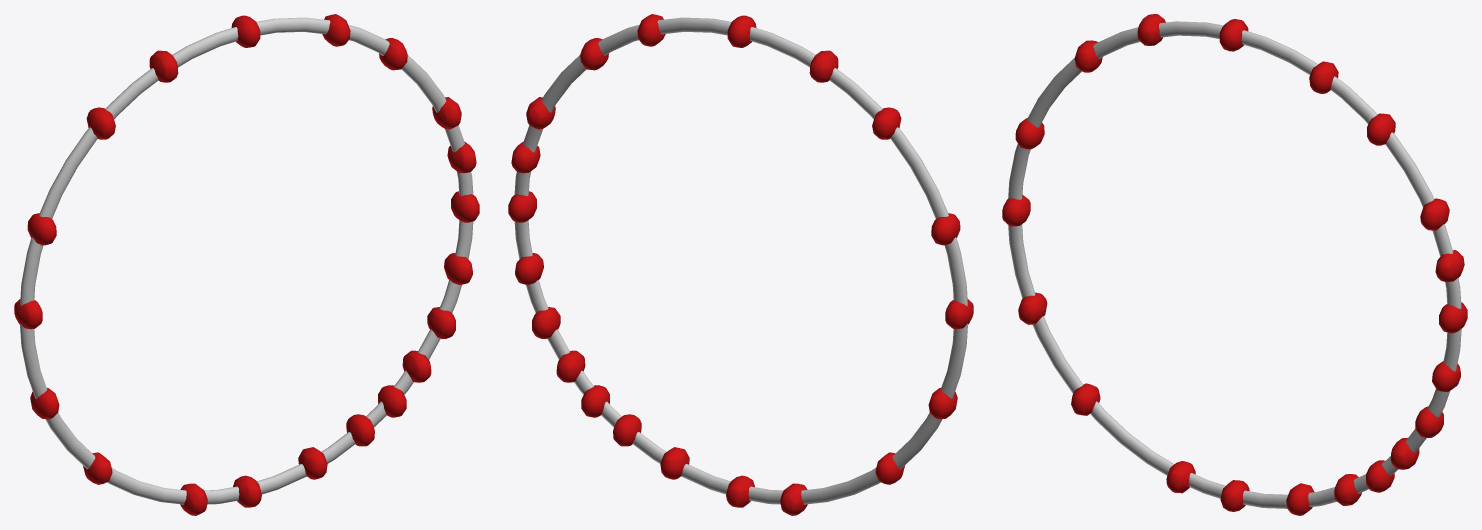
3 views of the same model, side by side, from view 1: azimuth 30°, elevation 25°; view 2: azimuth 150°, elevation 25°; view 3: azimuth 330°, elevation 25° (orthographic).
Visible parts, largest first — view 1: Ring_Torus, Electron_Mball; view 2: Ring_Torus, Electron_Mball; view 3: Ring_Torus, Electron_Mball.
Boxes of the visible parts, x1=… form: Ring_Torus: x1=20, y1=17, x2=473, y2=504; Electron_Mball: x1=14, y1=14, x2=479, y2=515; Ring_Torus: x1=514, y1=17, x2=967, y2=504; Electron_Mball: x1=508, y1=14, x2=973, y2=515; Ring_Torus: x1=1008, y1=21, x2=1461, y2=508; Electron_Mball: x1=1002, y1=14, x2=1467, y2=515.
Bounding box in the file's own units: 2.91 × 2.96 × 0.2136.
